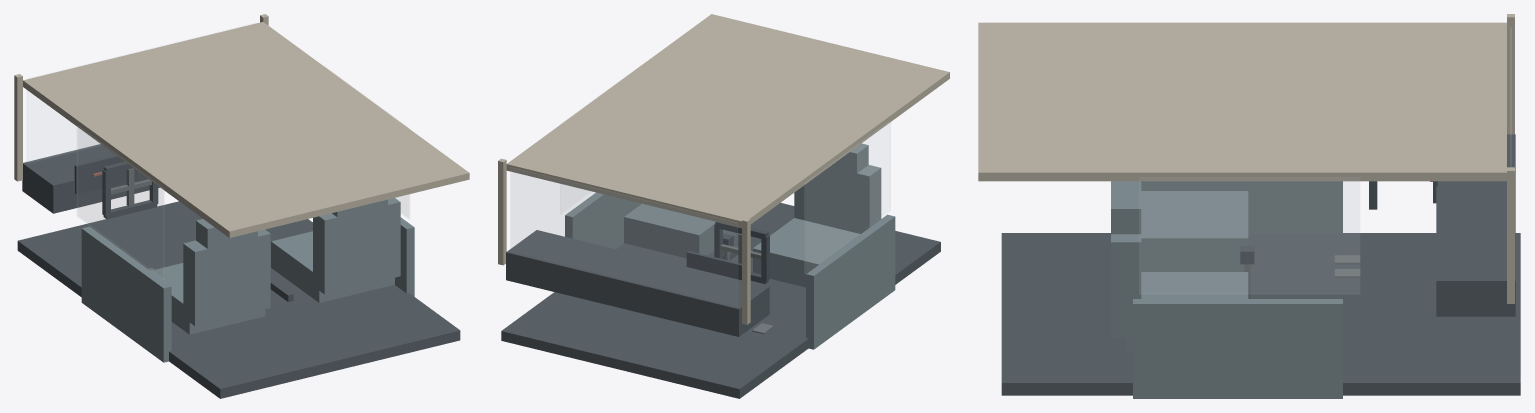
The model's file is police_car_cabin.glb.
3 views of the same model, side by side, from view 1: azimuth 30°, elevation 25°; view 2: azimuth 150°, elevation 25°; view 3: azimuth 270°, elevation 25° (orthographic). The views are drawn at different scales.
Parts seen in each view (by area): view 1: body, glass_side_left, glass_windshield, steering_wheel; view 2: body, glass_windshield, glass_side_left, steering_wheel; view 3: body, glass_side_right.
Part boxes in pixels (left/top/right/bottom): body: left=14, top=14, right=469, bottom=398; glass_side_left: left=77, top=126, right=163, bottom=278; glass_windshield: left=27, top=23, right=254, bottom=162; steering_wheel: left=102, top=161, right=158, bottom=219; body: left=498, top=14, right=949, bottom=398; glass_windshield: left=510, top=168, right=737, bottom=305; glass_side_left: left=804, top=121, right=890, bottom=273; steering_wheel: left=714, top=222, right=769, bottom=283; body: left=978, top=14, right=1520, bottom=398; glass_side_right: left=1139, top=178, right=1359, bottom=293.
Bounding box in the file's own units: 1.59 × 1.08 × 2.33.
